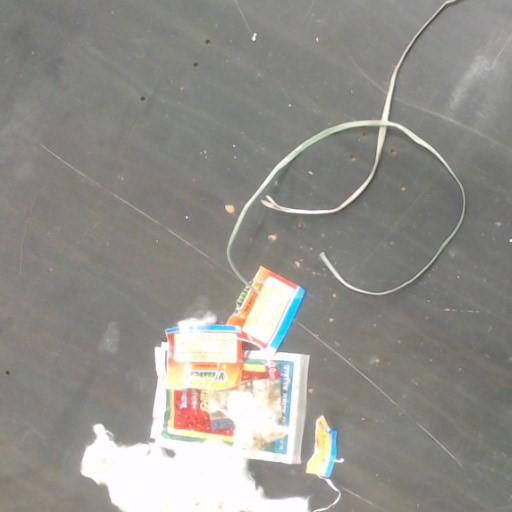conveyor belt: (236, 0, 511, 511)
cotton: (81, 424, 308, 511)
packet: (151, 267, 308, 463), (306, 416, 336, 477)
thread: (227, 0, 466, 295)
